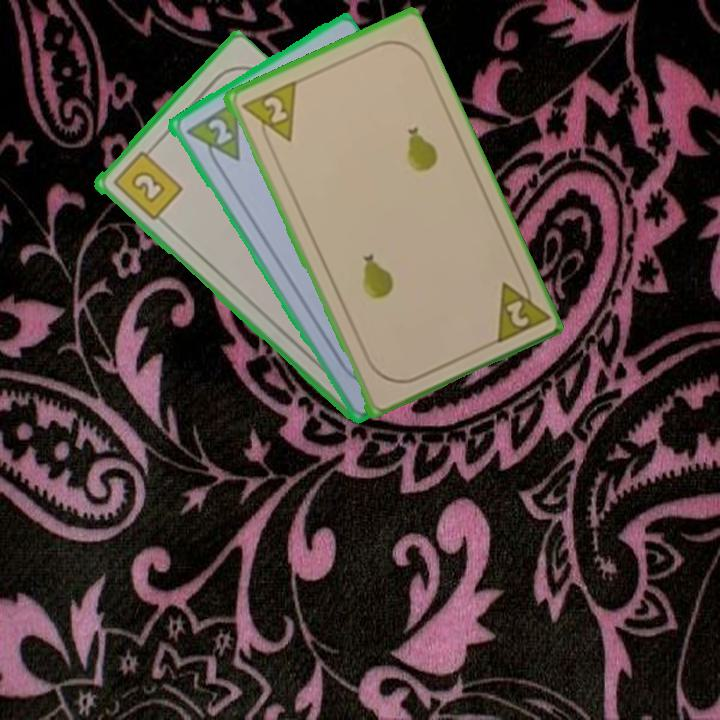2b: (109, 142, 185, 223)
2p: (181, 97, 243, 175), (488, 269, 550, 347), (237, 77, 299, 151)
